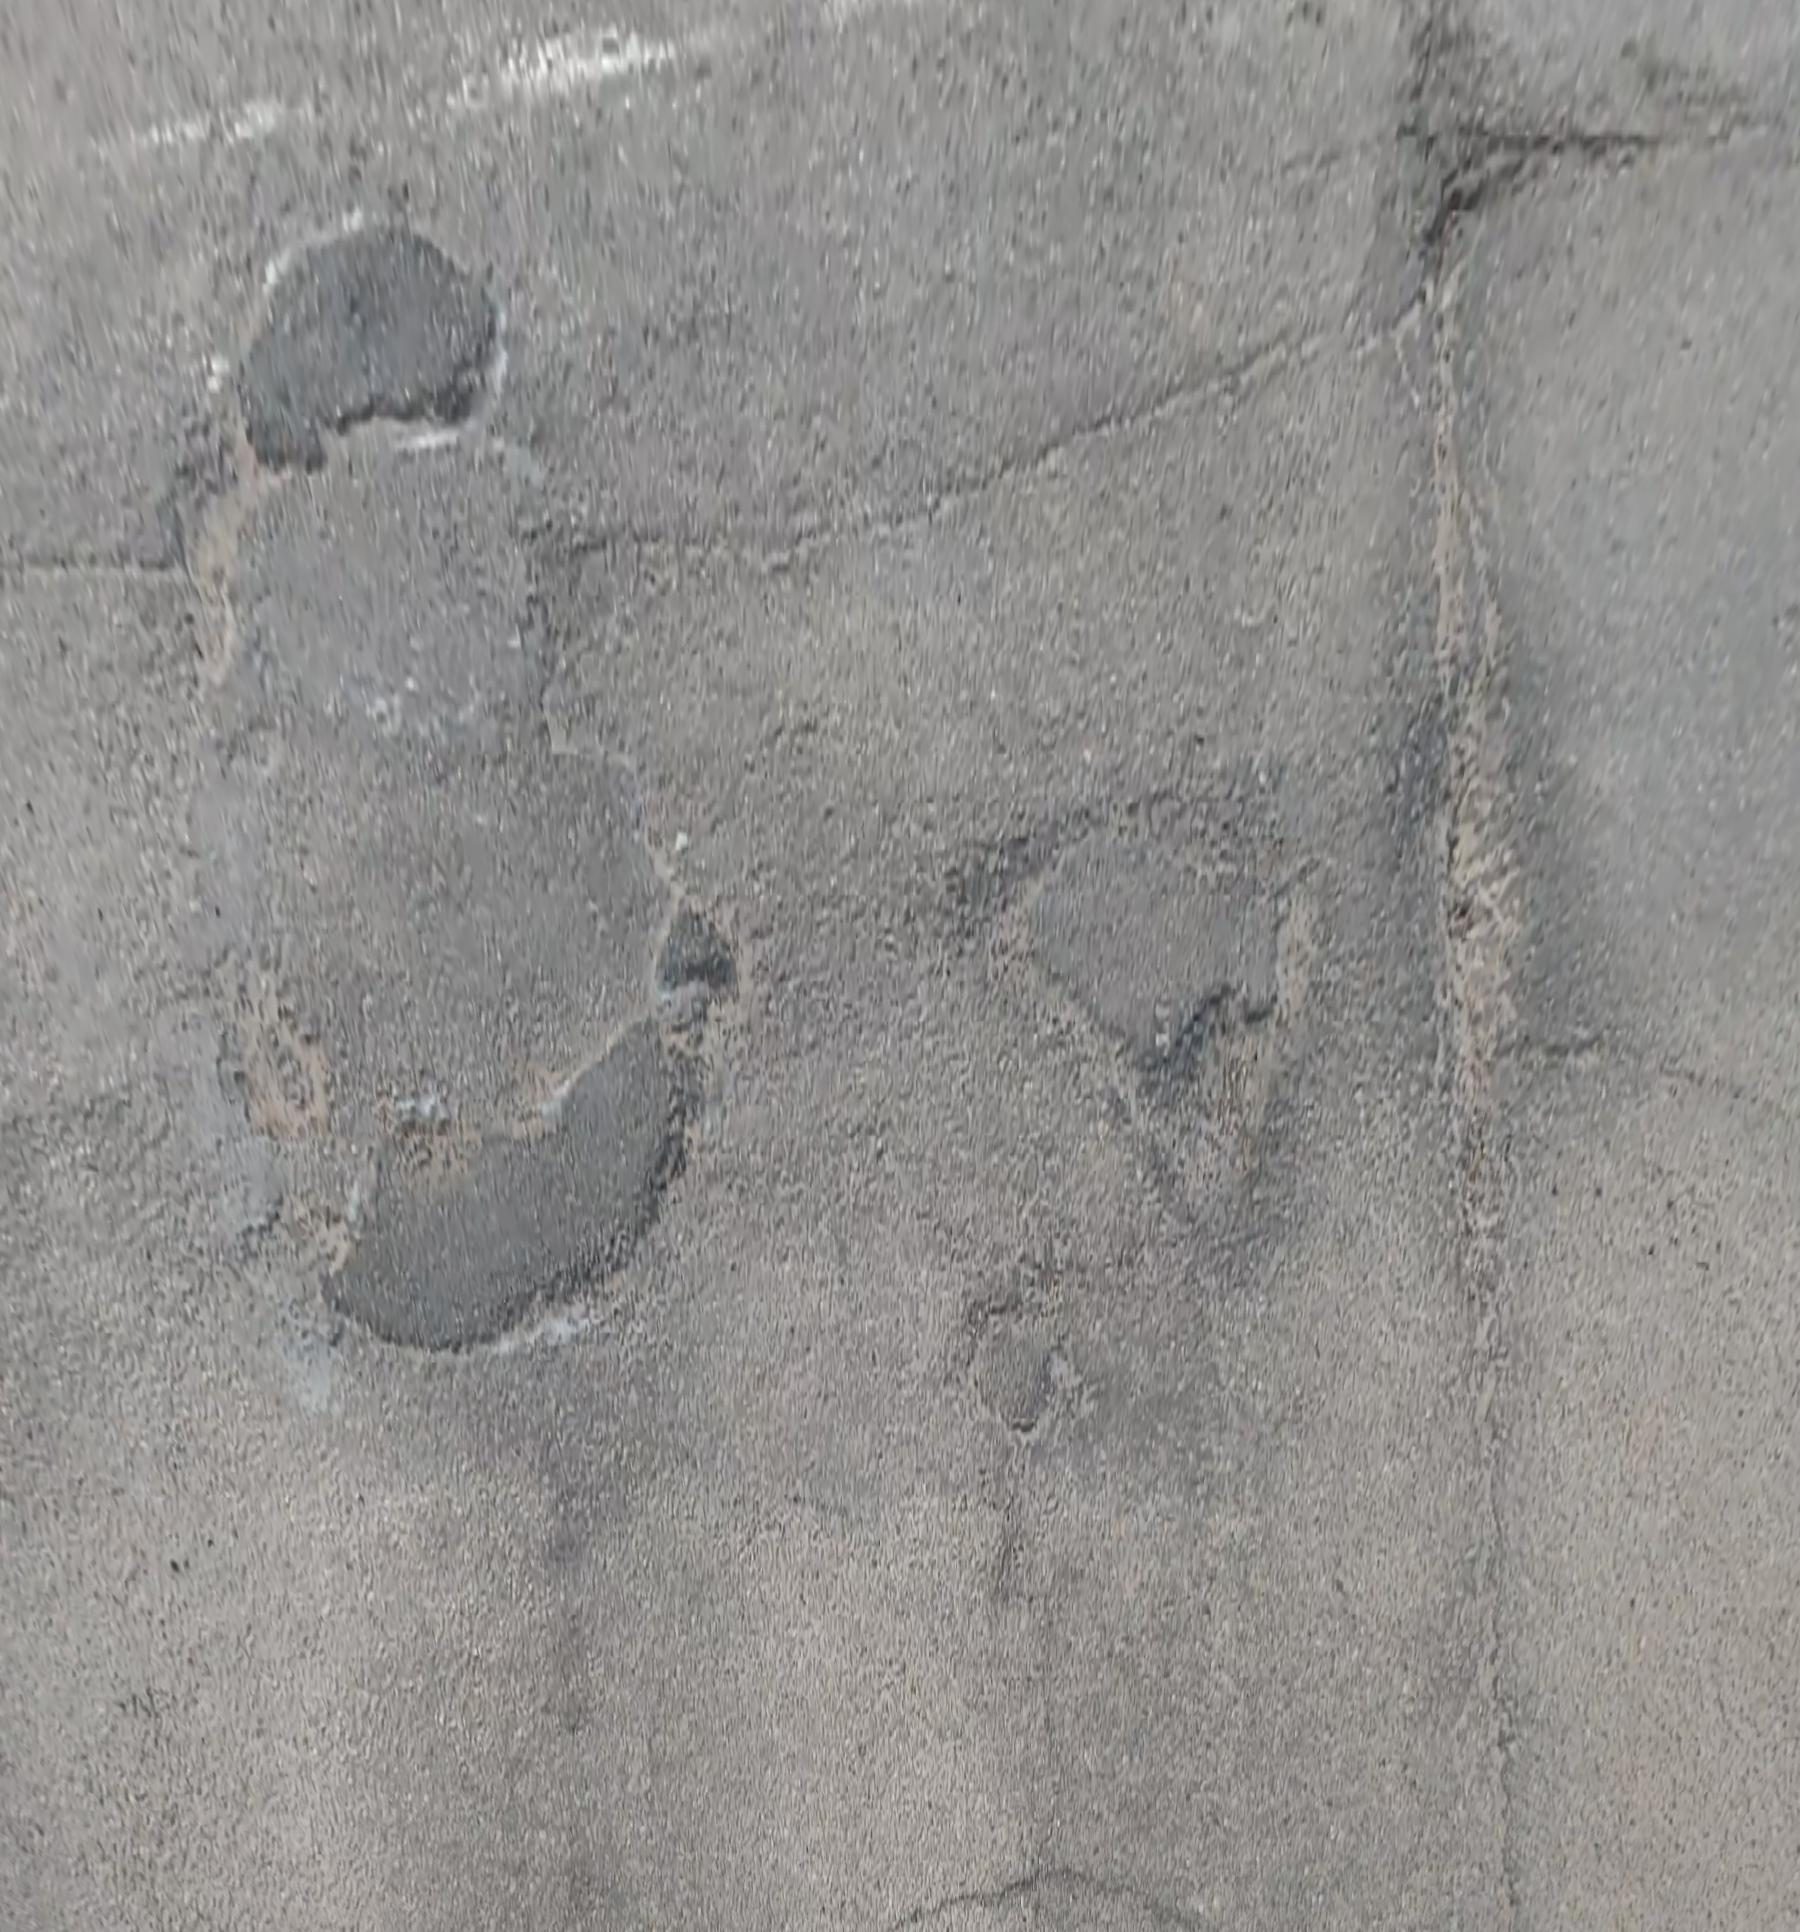pothole: (1133, 993, 1299, 1245), (179, 420, 281, 687), (201, 952, 338, 1147)
pothole_patch_poor: (183, 232, 743, 1364), (991, 770, 1321, 1198), (968, 1271, 1067, 1438)
